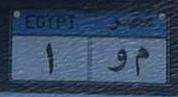1: (43, 41, 57, 74)
meem: (132, 45, 152, 80)
waw: (108, 48, 127, 74)
